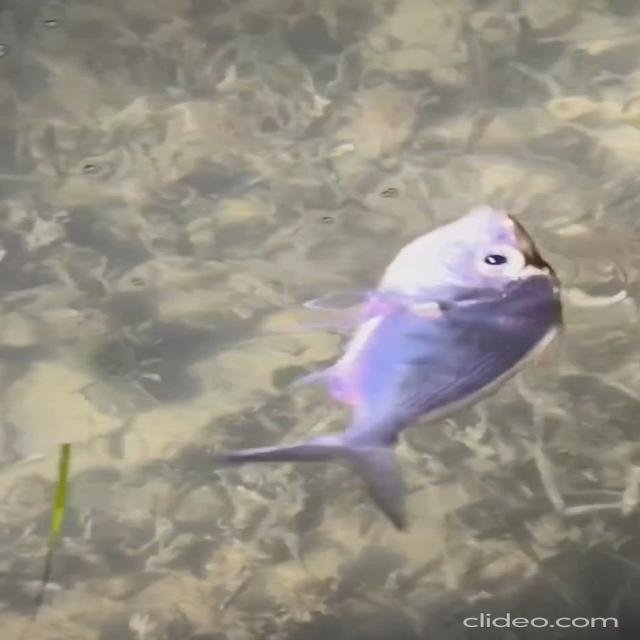fish: (224, 200, 590, 532)
